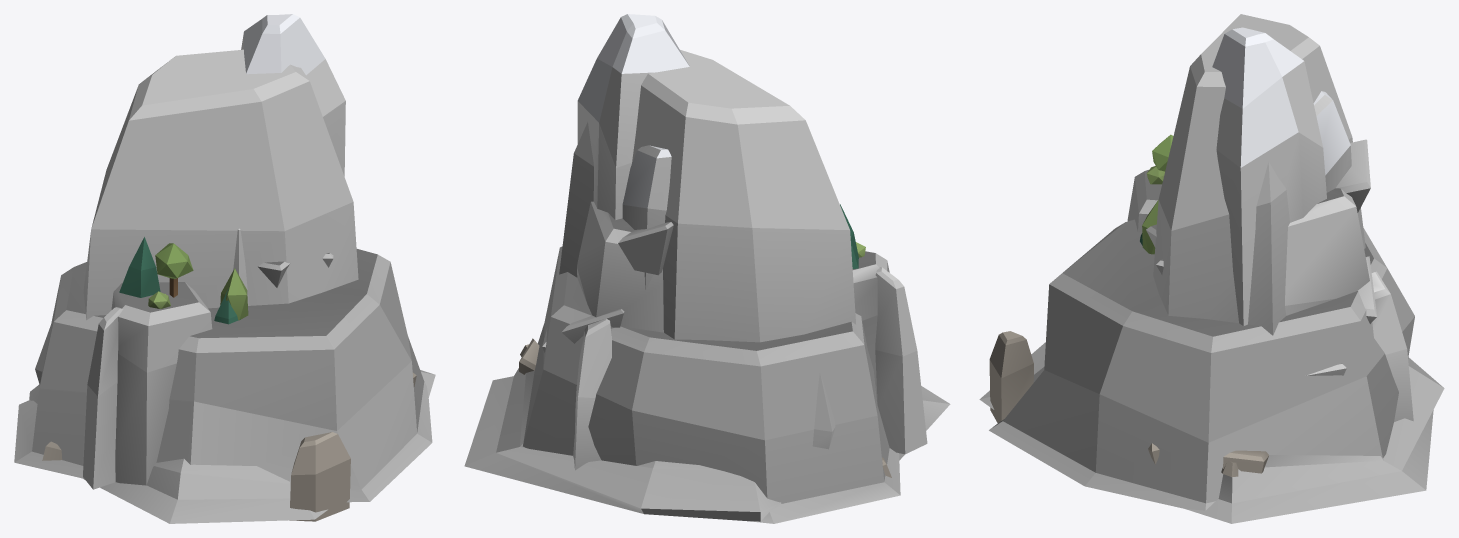
The model's file is crag-fallen-0.glb.
3 views of the same model, side by side, from view 1: azimuth 30°, elevation 25°; view 2: azimuth 150°, elevation 25°; view 3: azimuth 270°, elevation 25° (orthographic). The views are drawn at different scales.
Parts seen in each view (by area): view 1: SaddleBase, SaddleBlock, CragStep, CragBase, CragSummit, CragRib2, SaddleScree3, CragPine9, CragCrown8, SaddleShrub1, CragTier2; view 2: SaddleBase, SaddleBlock, CragBase, CragSummit, CragRib2, CragTier2, CragShoulder, CragRib3, CragStep, CragShelf9, CragTier1, CragShelf8; view 3: SaddleBase, SaddleBlock, CragSummit, CragBase, CragTier2, SaddleScree3, CragRib3, CragShoulder, CragShelf9, CragStep, CragScree8, CragShelf8.
Part boxes in pixels (x1,y1,x2,y2): SaddleBase: (14, 249, 432, 502); SaddleBlock: (83, 49, 358, 320); CragStep: (111, 282, 212, 485); CragBase: (29, 370, 435, 523); CragSummit: (241, 14, 345, 176); CragRib2: (83, 307, 123, 489); SaddleScree3: (289, 432, 350, 521); CragPine9: (119, 237, 160, 297); CragCrown8: (155, 243, 193, 278); SaddleShrub1: (220, 268, 248, 320); CragTier2: (233, 228, 248, 305); SaddleBase: (523, 246, 900, 523); SaddleBlock: (559, 50, 855, 342); CragBase: (464, 368, 950, 521); CragSummit: (577, 14, 689, 219); CragRib2: (875, 267, 927, 454); CragTier2: (577, 201, 663, 332); CragShoulder: (622, 145, 671, 291); CragRib3: (573, 318, 612, 470); CragStep: (852, 251, 889, 404); CragShelf9: (618, 222, 673, 275); CragTier1: (812, 373, 835, 449); CragShelf8: (561, 309, 624, 343); SaddleBase: (989, 219, 1414, 510); SaddleBlock: (1153, 14, 1365, 335); CragSummit: (1212, 27, 1326, 326); CragBase: (979, 342, 1444, 523); CragTier2: (1285, 188, 1369, 315); SaddleScree3: (989, 331, 1033, 422); CragRib3: (1371, 271, 1413, 421); CragShoulder: (1313, 91, 1351, 192); CragShelf9: (1335, 139, 1370, 212); CragStep: (1127, 170, 1161, 232); CragScree8: (1223, 450, 1268, 473); CragShelf8: (1358, 256, 1376, 323).
Size of the model in its own units: 1.78 by 1.68 by 1.66.
